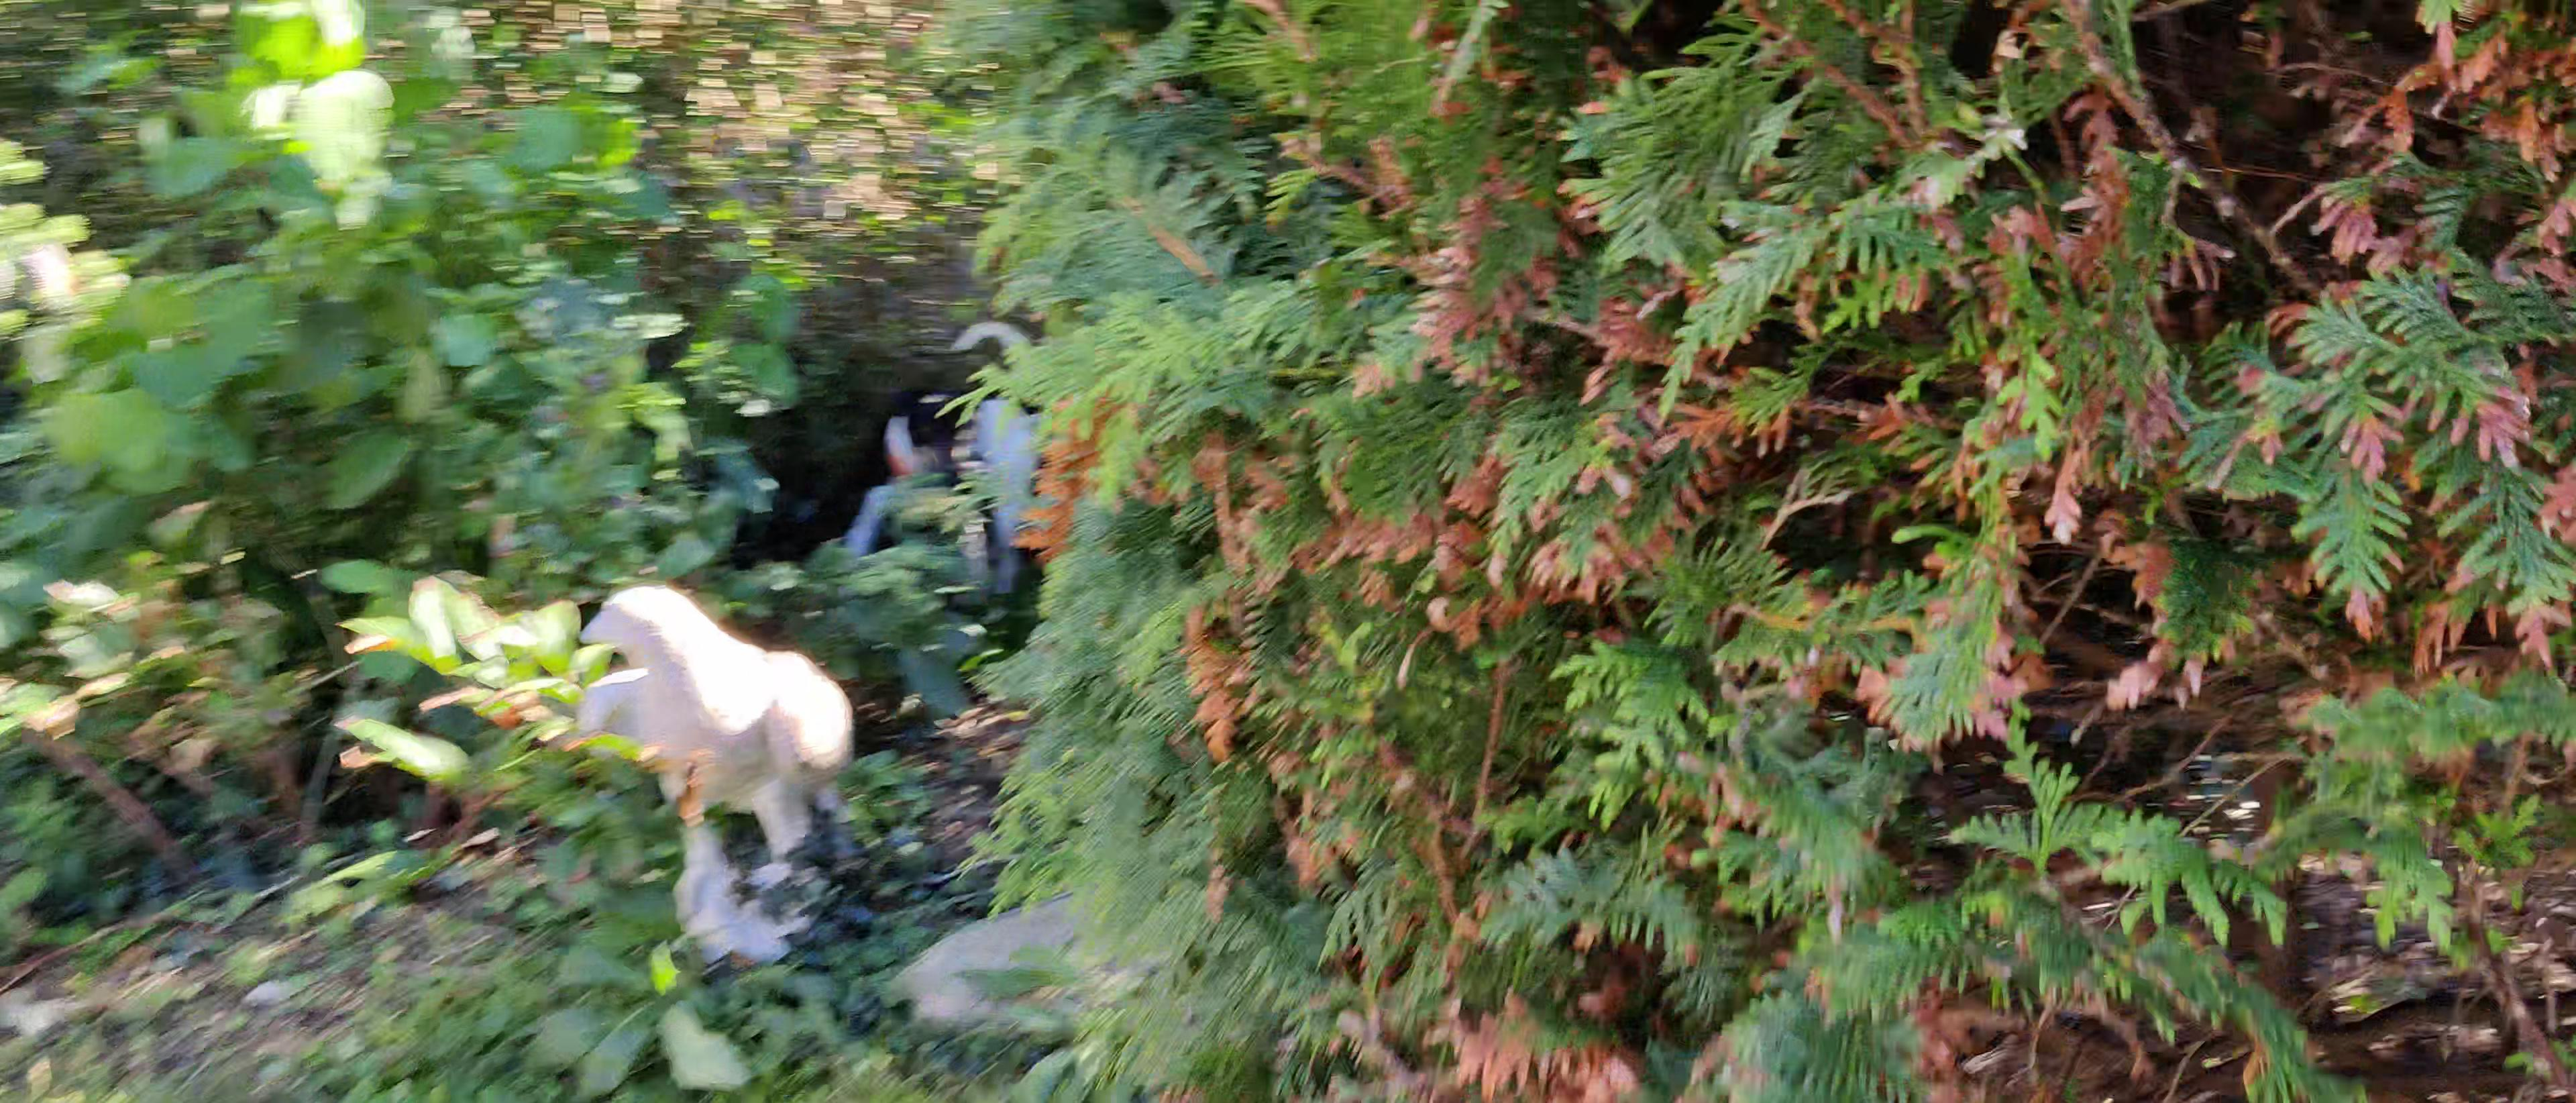Dog: (830, 319, 1055, 598)
